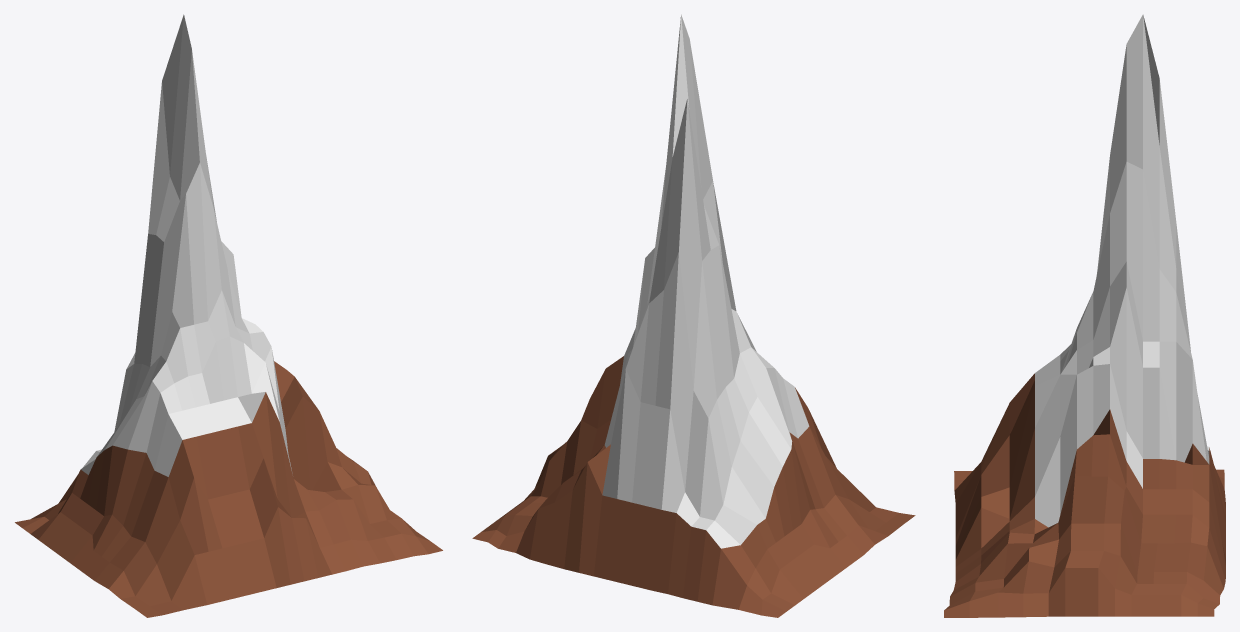
File: mountainTop01.fbx
3 renders of one model, left to right at view 1: azimuth 30°, elevation 25°; view 2: azimuth 150°, elevation 25°; view 3: azimuth 270°, elevation 25°, orthographic. The views are drawn at different scales.
Visible parts, largest first — view 1: Grid; view 2: Grid; view 3: Grid.
Boxes of the visible parts, box(x1,y1,x2,y2) form: Grid: box(15, 14, 442, 617); Grid: box(472, 14, 915, 617); Grid: box(944, 14, 1225, 617).
Bounding box in the file's own units: 422 × 699 × 341.
